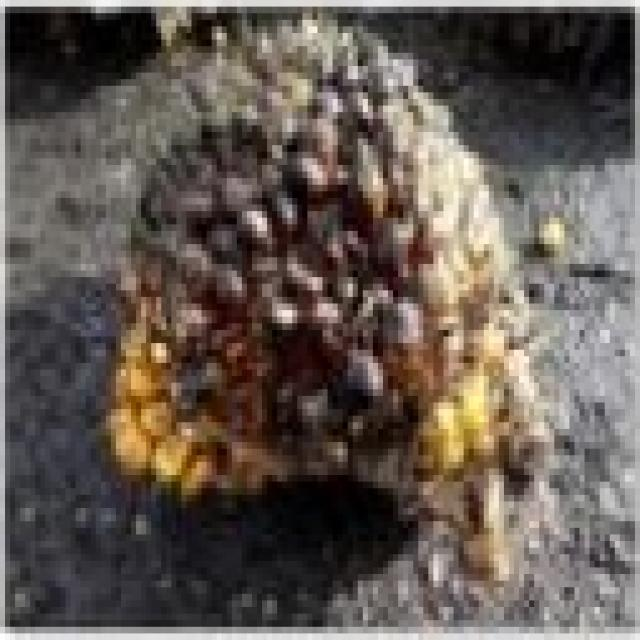FFB: (107, 28, 545, 553)
